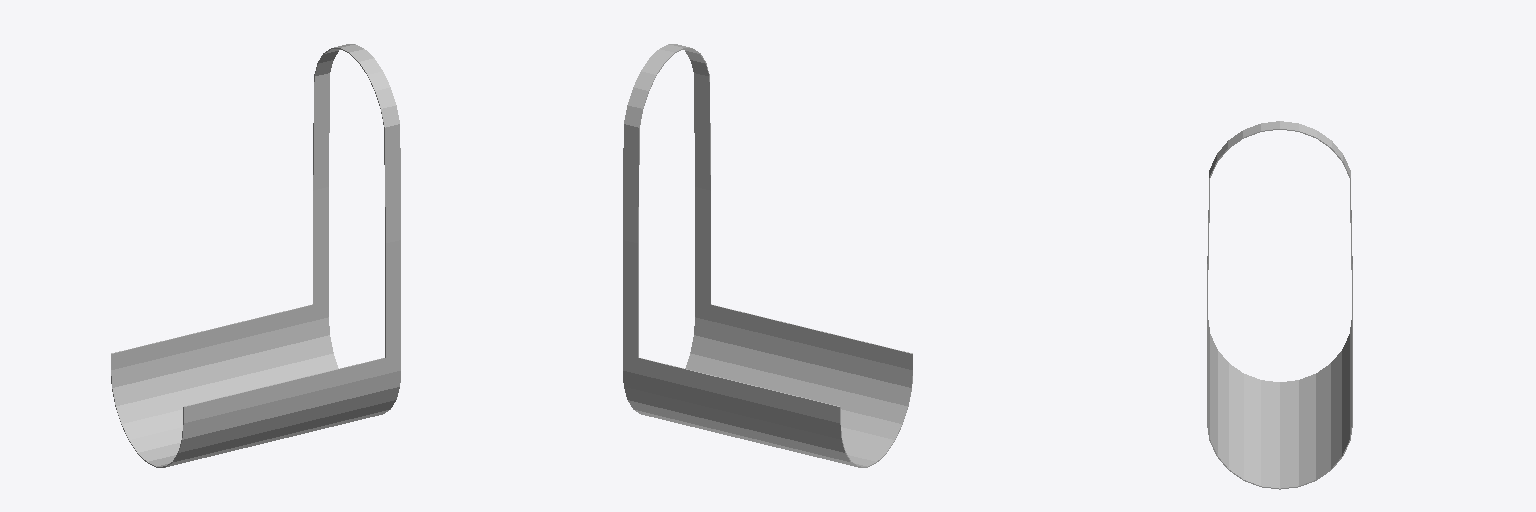
Rendered from wall4.obj.
3 views of the same model, side by side, from view 1: azimuth 30°, elevation 25°; view 2: azimuth 150°, elevation 25°; view 3: azimuth 270°, elevation 25° (orthographic).
Visible parts, largest first — view 1: Mesh1 Group2 Group1 Model; view 2: Mesh1 Group2 Group1 Model; view 3: Mesh1 Group2 Group1 Model.
Boxes of the visible parts, box(x1,y1,x2,y2) form: Mesh1 Group2 Group1 Model: box(111, 44, 400, 467); Mesh1 Group2 Group1 Model: box(623, 44, 912, 467); Mesh1 Group2 Group1 Model: box(1207, 121, 1352, 489).
Size of the model in its own units: 13.97 by 22.13 by 8.12.